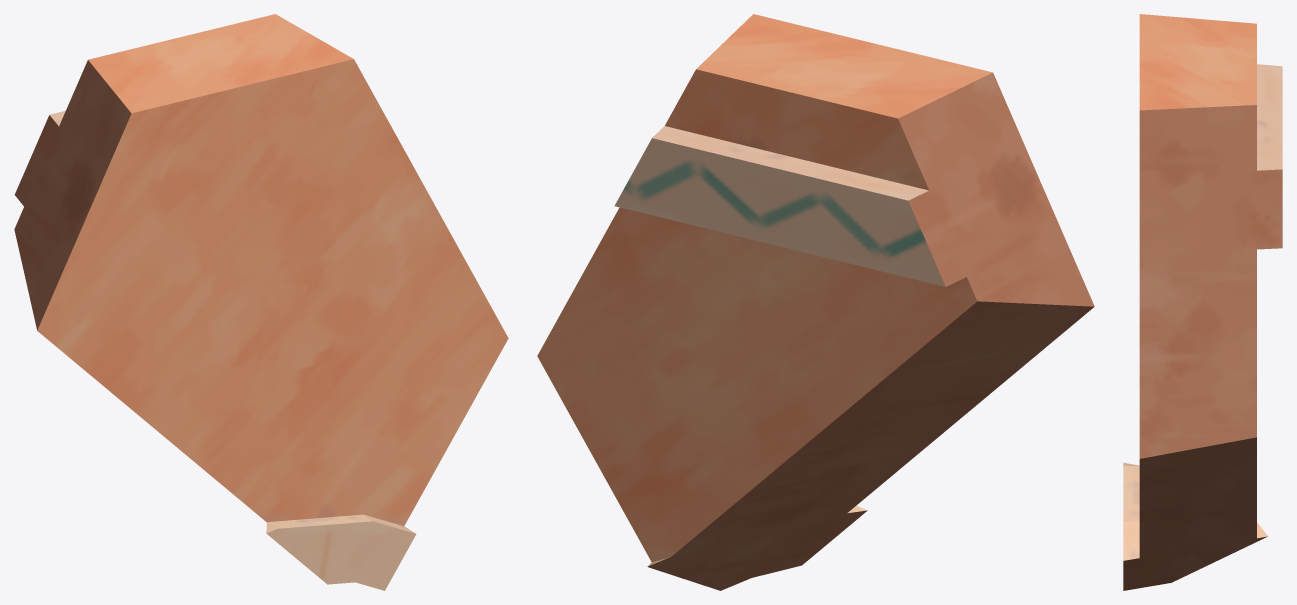
Rendered from wall2_door_s06.fbx.
3 views of the same model, side by side, from view 1: azimuth 30°, elevation 25°; view 2: azimuth 150°, elevation 25°; view 3: azimuth 270°, elevation 25° (orthographic). The views are drawn at different scales.
Visible parts, largest first — view 1: wall2_door_s06; view 2: wall2_door_s06; view 3: wall2_door_s06.
Boxes of the visible parts, left/top/right/bottom form: wall2_door_s06: left=14, top=14, right=508, bottom=590; wall2_door_s06: left=537, top=14, right=1094, bottom=590; wall2_door_s06: left=1123, top=14, right=1282, bottom=590.
Bounding box in the file's own units: 4.13 × 4.44 × 1.36.
